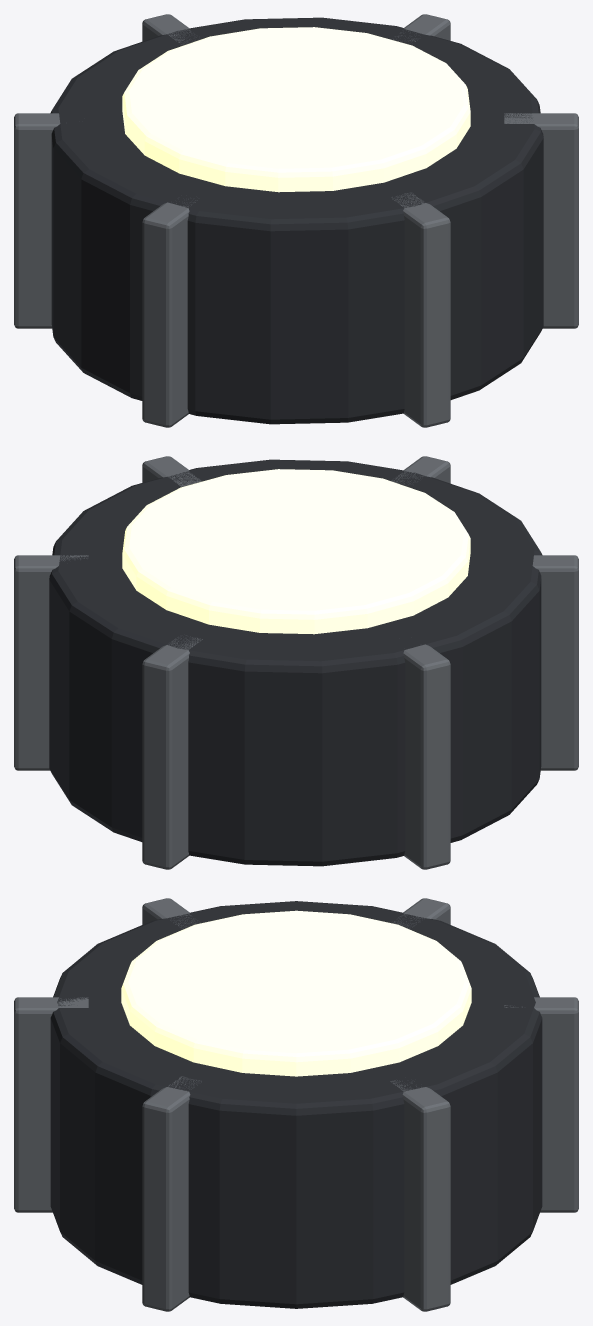
File: prop_salvage_pod.fbx
3 renders of one model, top to bottom at view 1: azimuth 30°, elevation 25°; view 2: azimuth 150°, elevation 25°; view 3: azimuth 270°, elevation 25°, orthographic.
Parts seen in each view (by area): view 1: SM_Prop_SalvagePod; view 2: SM_Prop_SalvagePod; view 3: SM_Prop_SalvagePod.
Boxes of the visible parts, x1,y1,x2,y2 form: SM_Prop_SalvagePod: [14, 14, 578, 427]; SM_Prop_SalvagePod: [14, 456, 578, 869]; SM_Prop_SalvagePod: [14, 898, 578, 1311].
Size of what is drawn, in the model's own units: 44.48 by 22 by 50.
